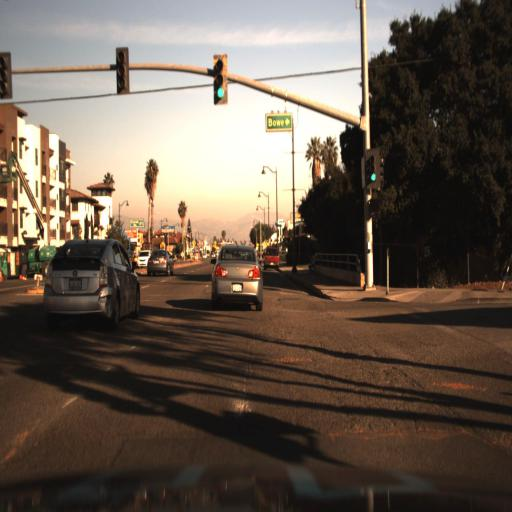car: (31, 224, 145, 324), (208, 230, 266, 323), (142, 237, 178, 282), (147, 242, 176, 281), (262, 241, 284, 276)
trafficLight: (111, 39, 130, 111), (211, 55, 227, 108)
trafficLight-Green: (364, 152, 386, 201), (114, 46, 129, 96), (367, 147, 379, 190)
truck: (19, 244, 55, 281)
